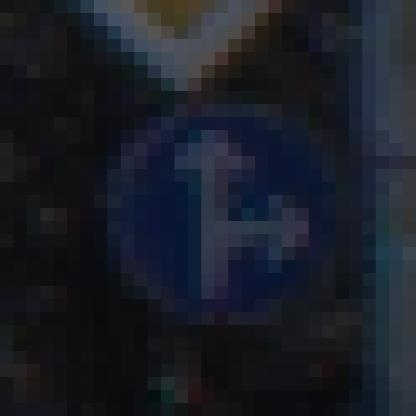Straight or Right: (81, 79, 350, 352)
